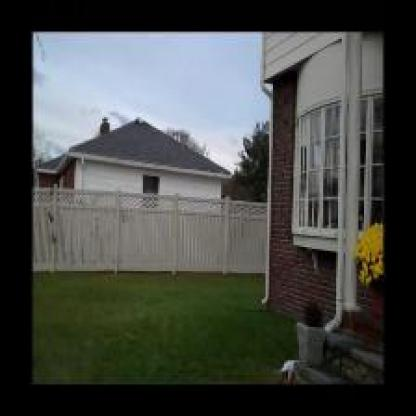other: (351, 219, 389, 317)
